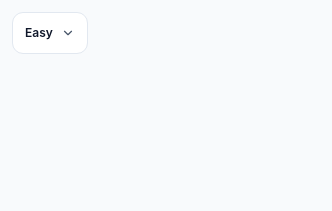
Test: CustomSelect › exposes listbox ARIA attributes
This screenshot has width=332, height=211.
Click the button "Easy" at (50,33), box [12,12,88,54]
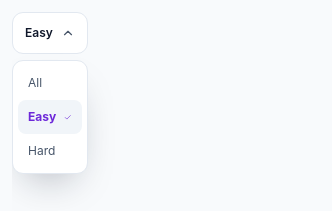
Check: the option "Easy" is shown, box [18,100,82,134]
